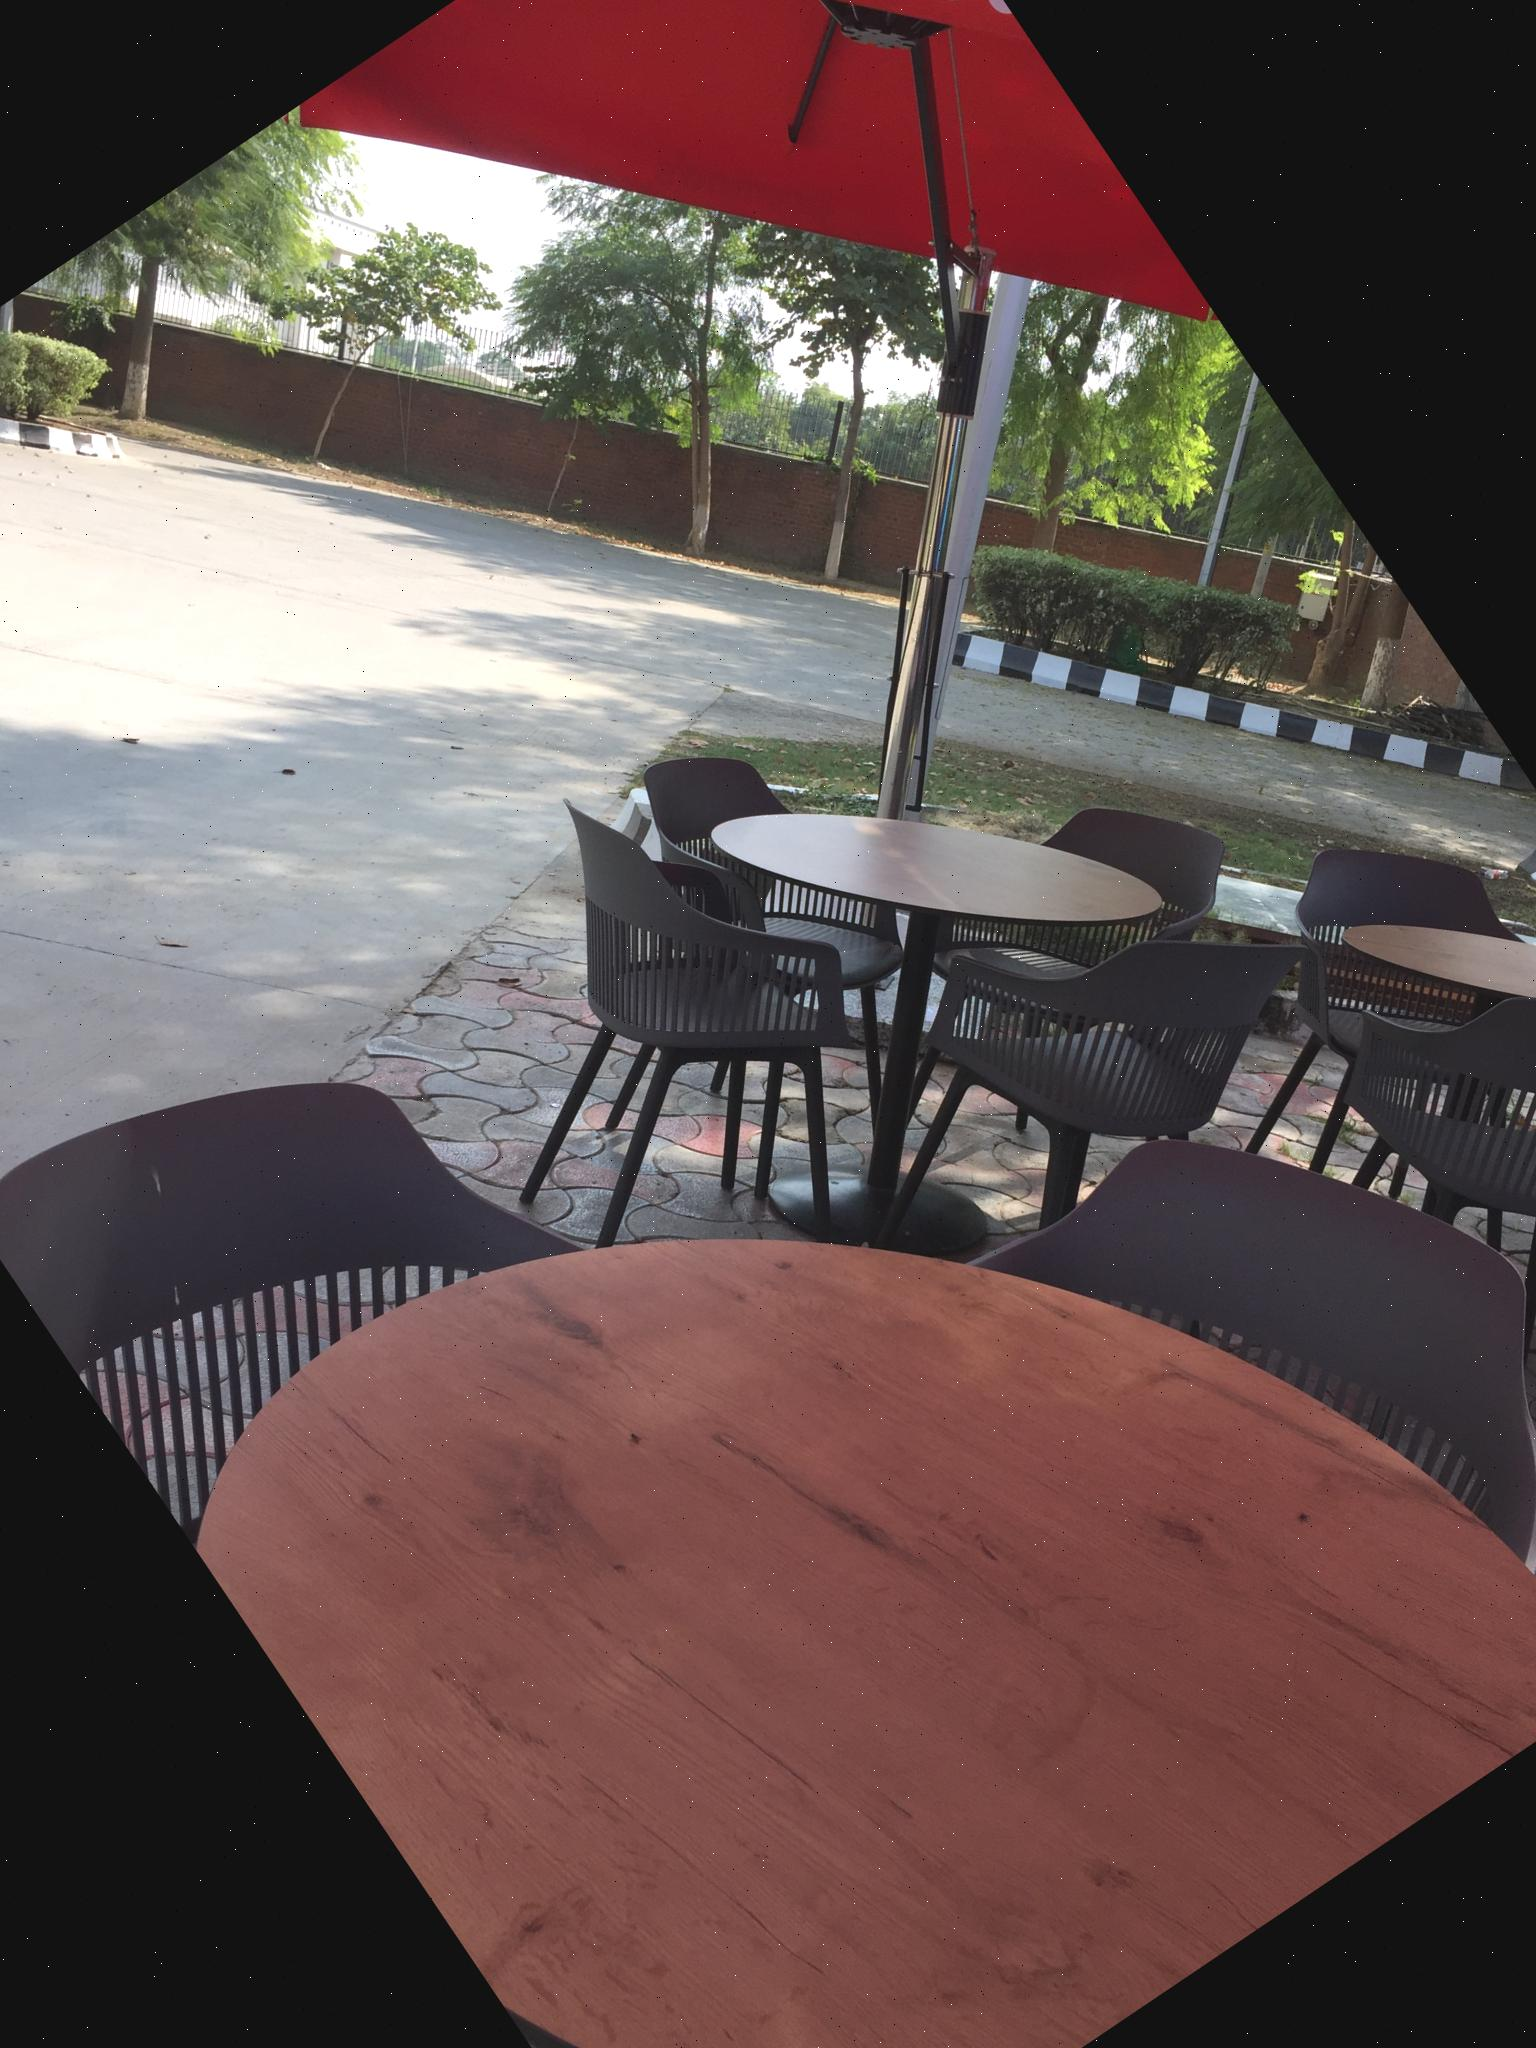chair: (0, 914, 765, 1671), (963, 1005, 1536, 1740), (329, 766, 981, 1392), (723, 840, 1360, 1364), (1234, 858, 1536, 1521), (1299, 856, 1536, 1587), (1225, 748, 1536, 1039), (976, 714, 1276, 985), (602, 693, 823, 897)
